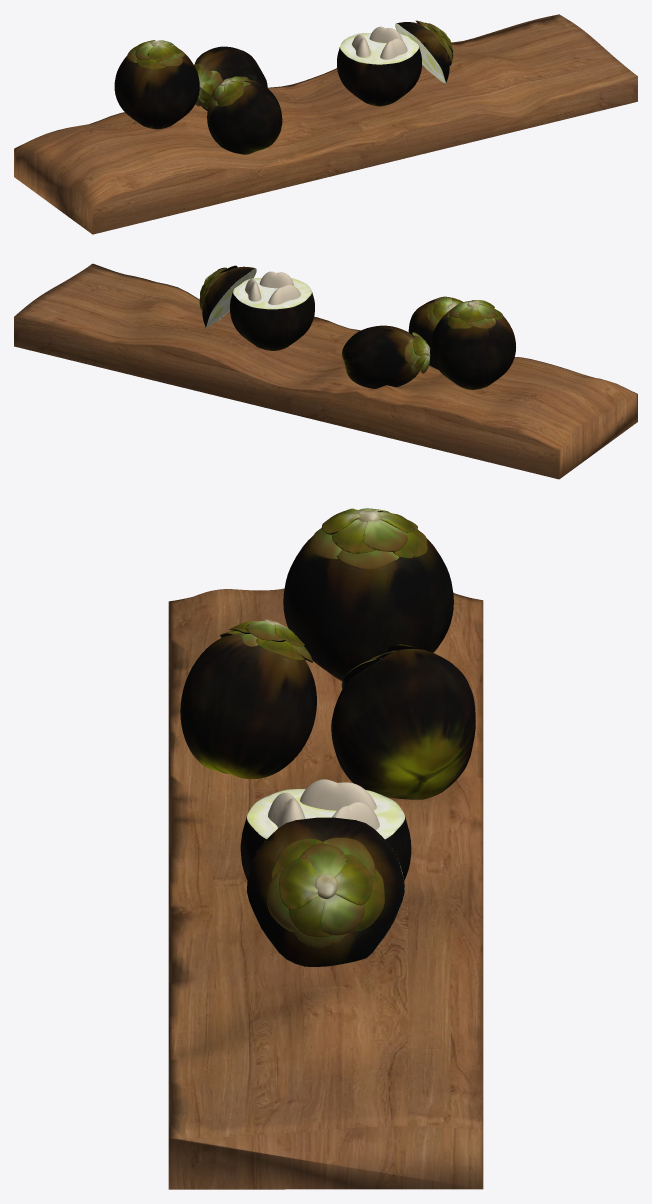
Rendered from palmyra.glb.
3 views of the same model, one above another, from view 1: azimuth 30°, elevation 25°; view 2: azimuth 150°, elevation 25°; view 3: azimuth 270°, elevation 25° (orthographic). The views are drawn at different scales.
Parts seen in each view (by area): view 1: Plane_Ground_0, Sphere_Vo_0, Circle.001_la 2_0, Sphere.004_ruot_0, Circle.002_La_0, Sphere.003_Nhan_0; view 2: Plane_Ground_0, Sphere_Vo_0, Sphere.004_ruot_0, Circle.001_la 2_0, Circle.002_La_0, Sphere.003_Nhan_0; view 3: Plane_Ground_0, Sphere_Vo_0, Circle.001_la 2_0, Circle.002_La_0, Sphere.003_Nhan_0, Sphere.004_ruot_0.
Part boxes in pixels (x1,y1,x2,y2): Plane_Ground_0: (14,14,637,234); Sphere_Vo_0: (114,22,449,154); Circle.001_la 2_0: (134,22,453,109); Sphere.004_ruot_0: (340,23,446,83); Circle.002_La_0: (127,20,452,107); Sphere.003_Nhan_0: (352,26,407,59); Plane_Ground_0: (14,263,637,479); Sphere_Vo_0: (202,266,515,389); Sphere.004_ruot_0: (206,268,311,328); Circle.001_la 2_0: (200,265,502,370); Circle.002_La_0: (199,267,496,374); Sphere.003_Nhan_0: (245,271,300,304); Plane_Ground_0: (168,588,483,1189); Sphere_Vo_0: (180,510,475,966); Circle.001_la 2_0: (220,508,427,937); Circle.002_La_0: (241,508,417,947); Sphere.003_Nhan_0: (268,779,379,829); Sphere.004_ruot_0: (247,789,404,959).
Bounding box in the file's own units: 1000 × 224 × 250.
Materials: 6 (5 with a texture image).
